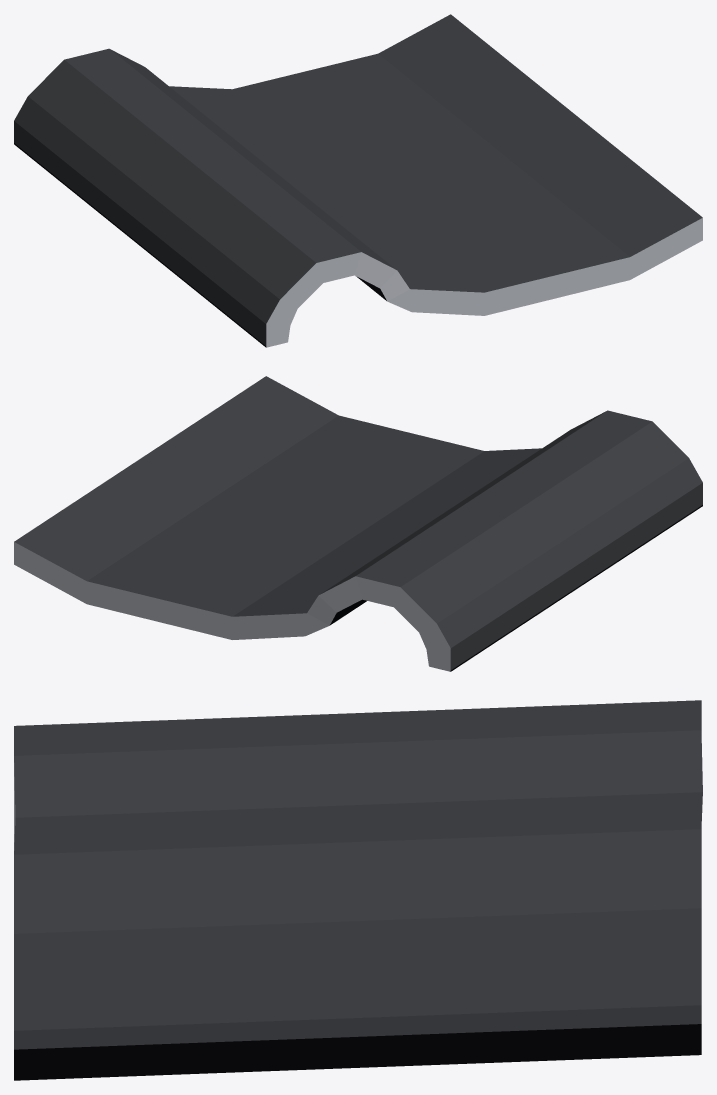
Rendered from Roof_low.fbx.
3 views of the same model, one above another, from view 1: azimuth 30°, elevation 25°; view 2: azimuth 150°, elevation 25°; view 3: azimuth 270°, elevation 25° (orthographic). The views are drawn at different scales.
Parts seen in each view (by area): view 1: Roof_Original_Original_Original1; view 2: Roof_Original_Original_Original1; view 3: Roof_Original_Original_Original1.
Boxes of the visible parts, box(x1,y1,x2,y2) form: Roof_Original_Original_Original1: box(14, 14, 702, 347); Roof_Original_Original_Original1: box(14, 376, 702, 671); Roof_Original_Original_Original1: box(14, 700, 702, 1080).
Size of the model in its own units: 150 by 37.02 by 150.
